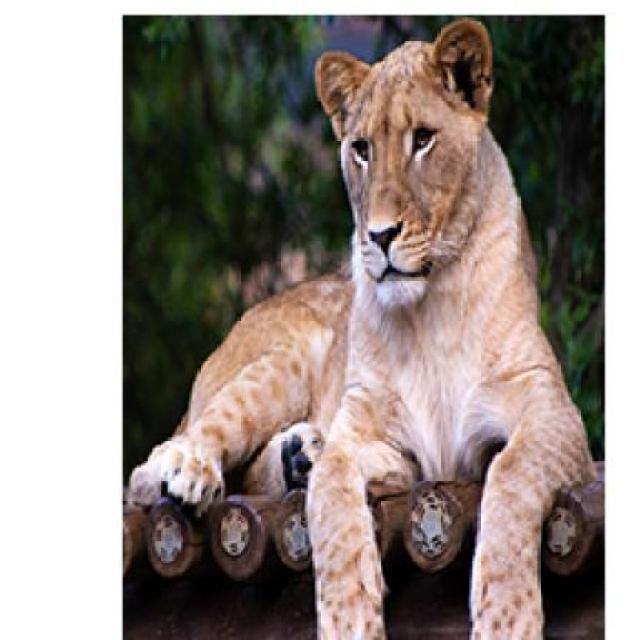Lion: (100, 11, 617, 638)
